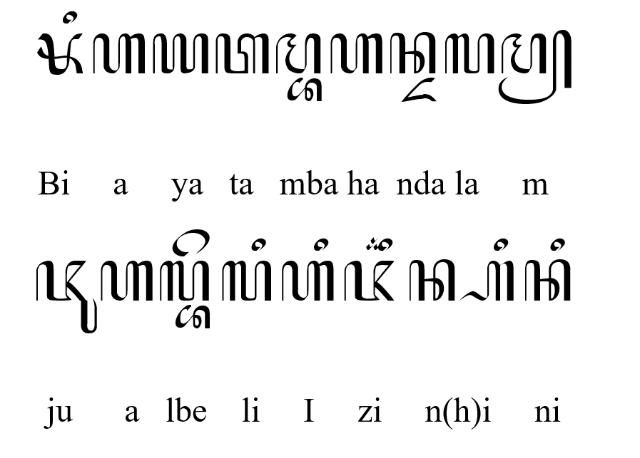-m: (498, 29, 572, 105)
B: (36, 32, 86, 76)
_b: (287, 76, 323, 102), (176, 304, 210, 330)
_d: (401, 77, 437, 102)
_h: (460, 260, 514, 302)
alt: (366, 235, 380, 251)
e: (170, 228, 210, 258)
h: (92, 33, 146, 75), (330, 33, 384, 75), (100, 261, 154, 303), (281, 260, 335, 302)
i: (251, 238, 267, 252), (314, 237, 330, 251), (378, 238, 394, 252), (493, 238, 509, 252), (549, 237, 565, 251), (62, 11, 78, 24)
j: (344, 260, 396, 302)
ju: (35, 259, 97, 335)
l: (443, 32, 495, 75), (220, 261, 272, 302), (160, 260, 210, 302)
m: (275, 33, 321, 75)
n: (524, 258, 570, 302), (408, 260, 456, 302), (389, 32, 436, 74)
t: (214, 32, 270, 74)
y: (153, 32, 210, 74)
